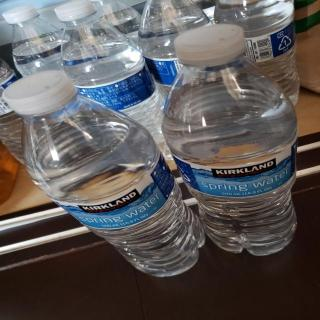Plastic-bottle: (2, 62, 212, 304), (159, 23, 302, 263), (45, 6, 191, 166)
